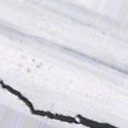crackTip: (1, 77, 120, 128)
